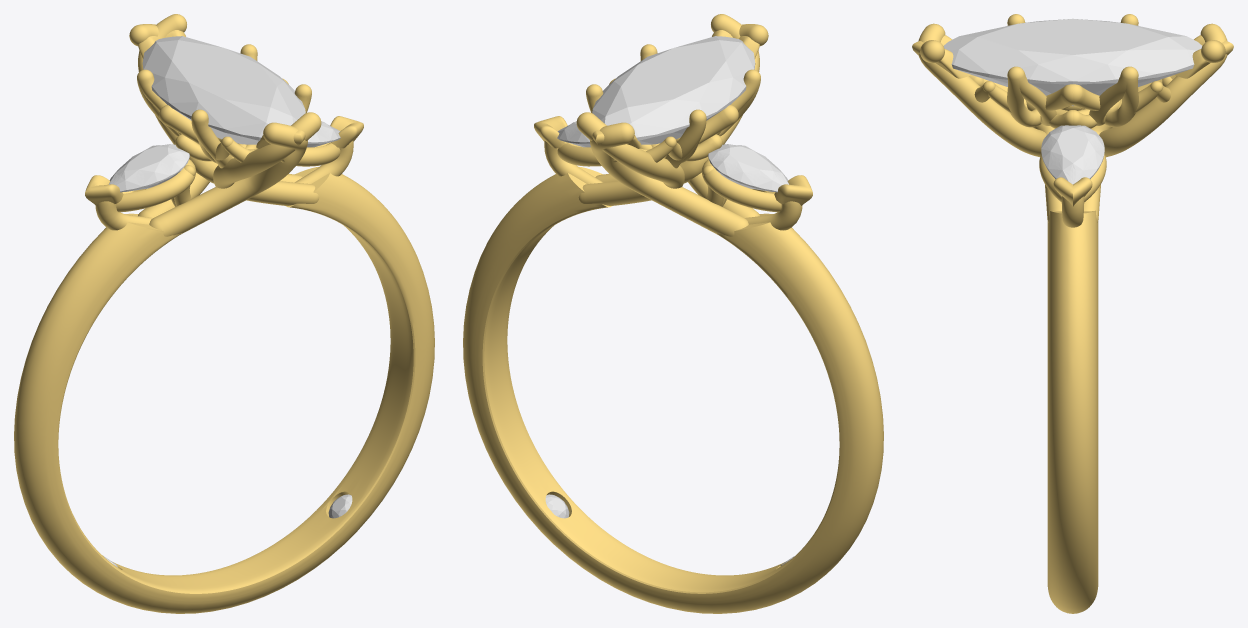
Rendered from ChristianYGv4_blender.glb.
3 views of the same model, side by side, from view 1: azimuth 30°, elevation 25°; view 2: azimuth 150°, elevation 25°; view 3: azimuth 270°, elevation 25° (orthographic). The views are drawn at different scales.
Visible parts, largest first — view 1: v4 Christian YG for 3d model, Christian dia for 3d model.002, Christian dia for 3d model; view 2: v4 Christian YG for 3d model, Christian dia for 3d model.002, Christian dia for 3d model; view 3: v4 Christian YG for 3d model, Christian dia for 3d model.002, Christian dia for 3d model.001.
Part boxes in pixels (x1,y1,x2,y2): v4 Christian YG for 3d model: (14,14,434,613); Christian dia for 3d model.002: (142,36,305,144); Christian dia for 3d model: (109,144,189,192); v4 Christian YG for 3d model: (463,14,883,613); Christian dia for 3d model.002: (592,36,755,144); Christian dia for 3d model: (708,144,788,192); v4 Christian YG for 3d model: (912,14,1233,613); Christian dia for 3d model.002: (943,18,1202,105); Christian dia for 3d model.001: (1041,125,1104,184).
Bounding box in the file's own units: 19.7 × 24.35 × 12.72.
